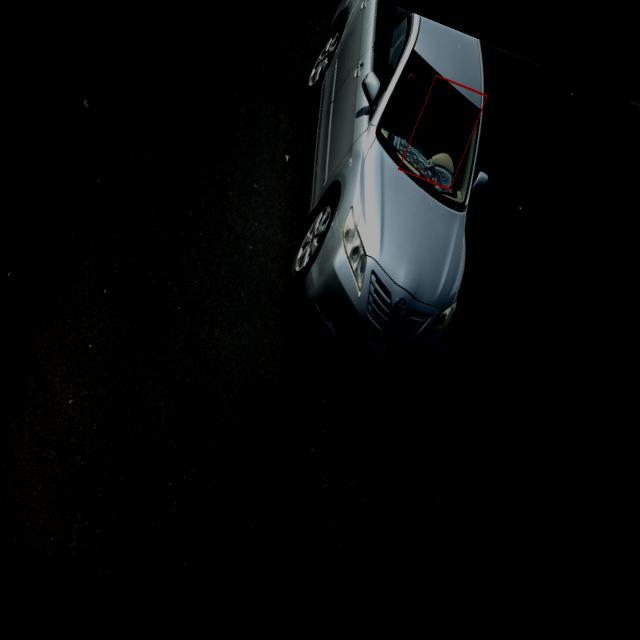windshield: (372, 46, 479, 219)
